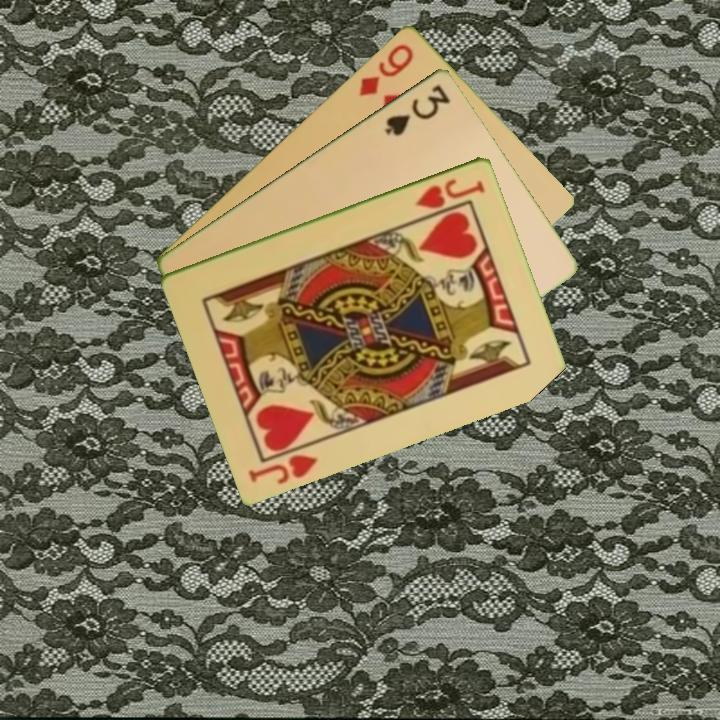3s: (381, 80, 453, 139)
9d: (355, 39, 417, 99)
Jh: (245, 450, 322, 487), (412, 175, 488, 211)
